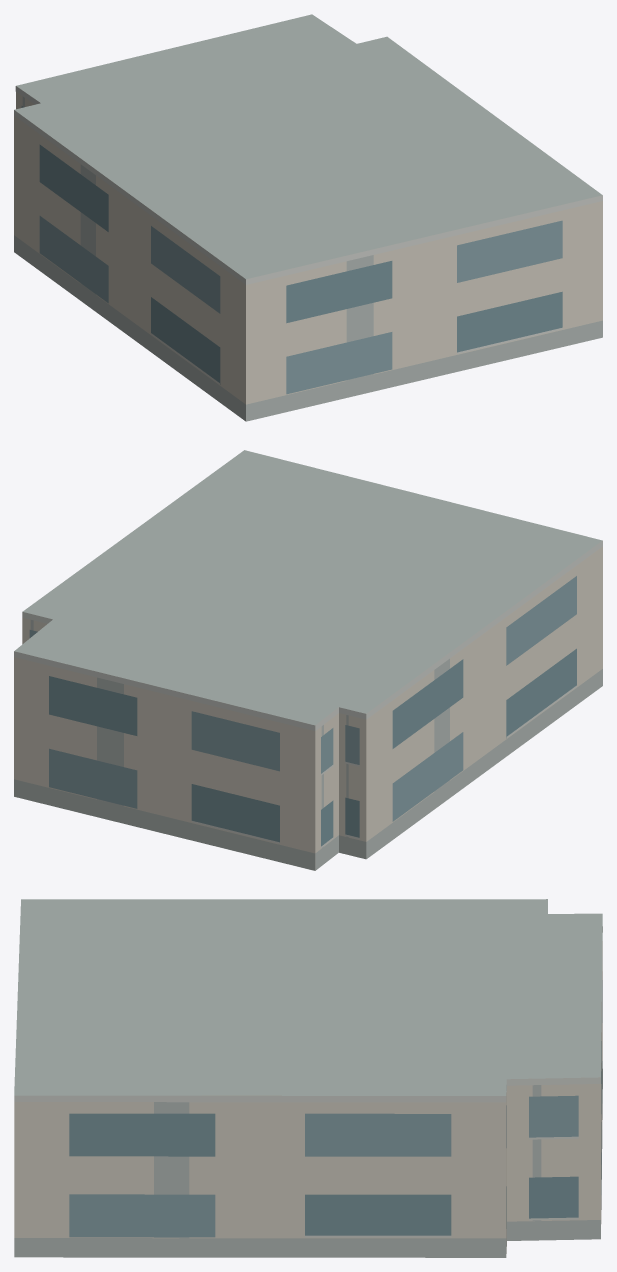
The model's file is survey-upis-32930115.glb.
3 views of the same model, one above another, from view 1: azimuth 30°, elevation 25°; view 2: azimuth 150°, elevation 25°; view 3: azimuth 270°, elevation 25° (orthographic). The views are drawn at different scales.
Parts seen in each view (by area): view 1: survey-upis-32930115.tmp; view 2: survey-upis-32930115.tmp; view 3: survey-upis-32930115.tmp.
Boxes of the visible parts, left/top/right/bottom form: survey-upis-32930115.tmp: left=14, top=14, right=602, bottom=421; survey-upis-32930115.tmp: left=14, top=450, right=602, bottom=870; survey-upis-32930115.tmp: left=14, top=899, right=602, bottom=1257.
Bounding box in the file's own units: 15.93 × 6.1 × 20.13.
